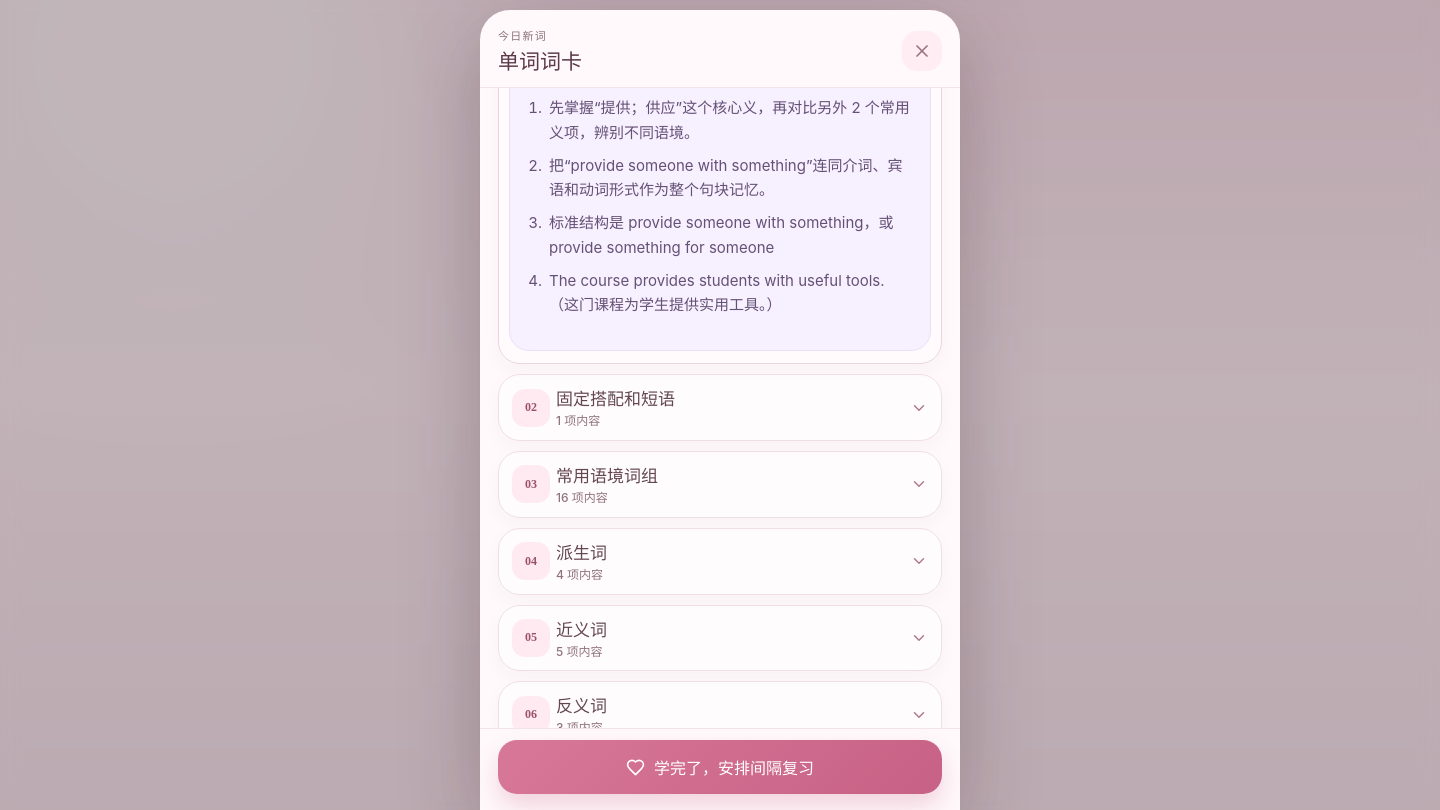
Test: CardDetailModal template content › does not repeat an identical Chinese gloss as the example translation
(page scrolled)
Click the button with class "learning-section-toggle" showing "02 固定搭配和短语 1 项内容": coordinates (531, 408) [499,375,941,440]
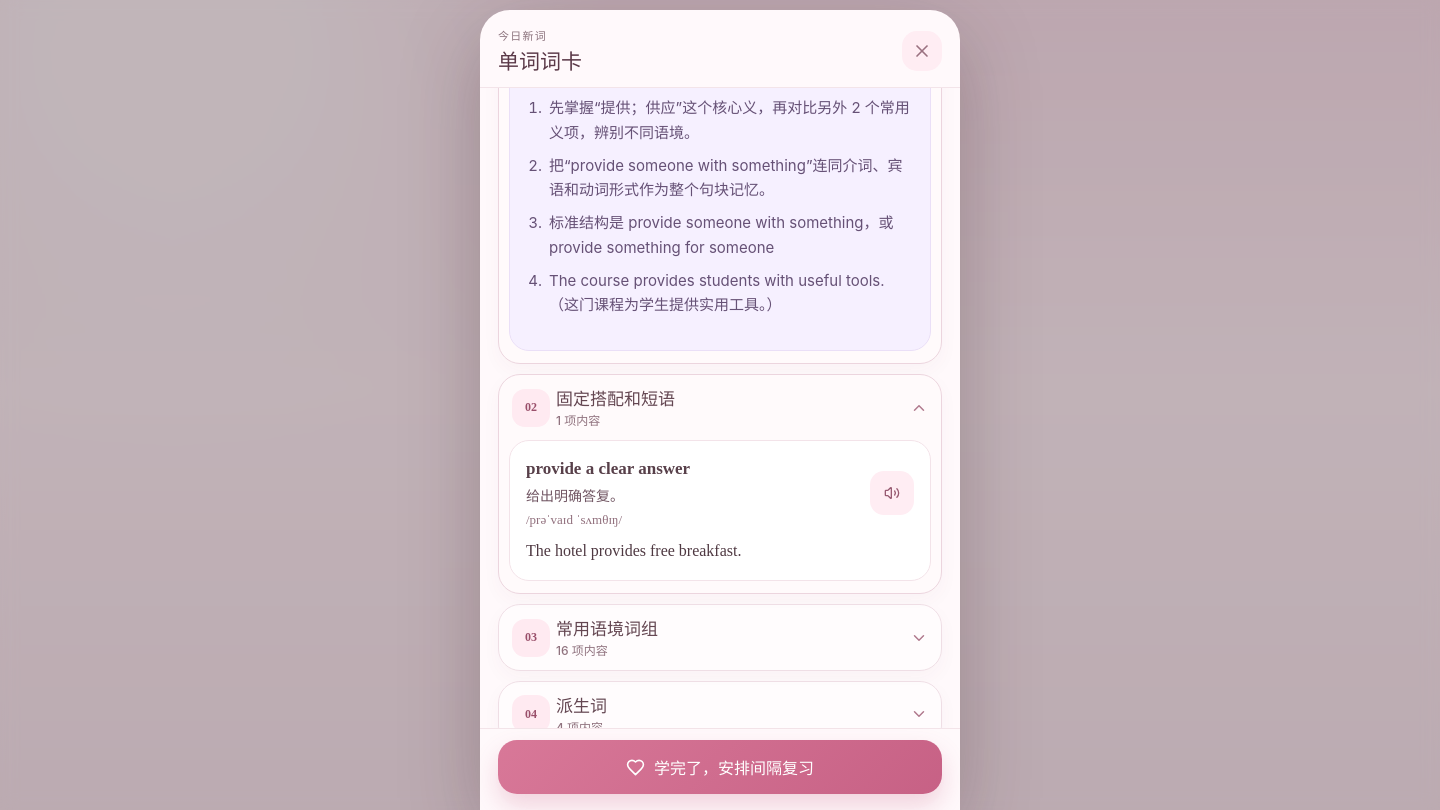
Expected: the text "给出明确答复。" is shown once, [526,487,624,504]
